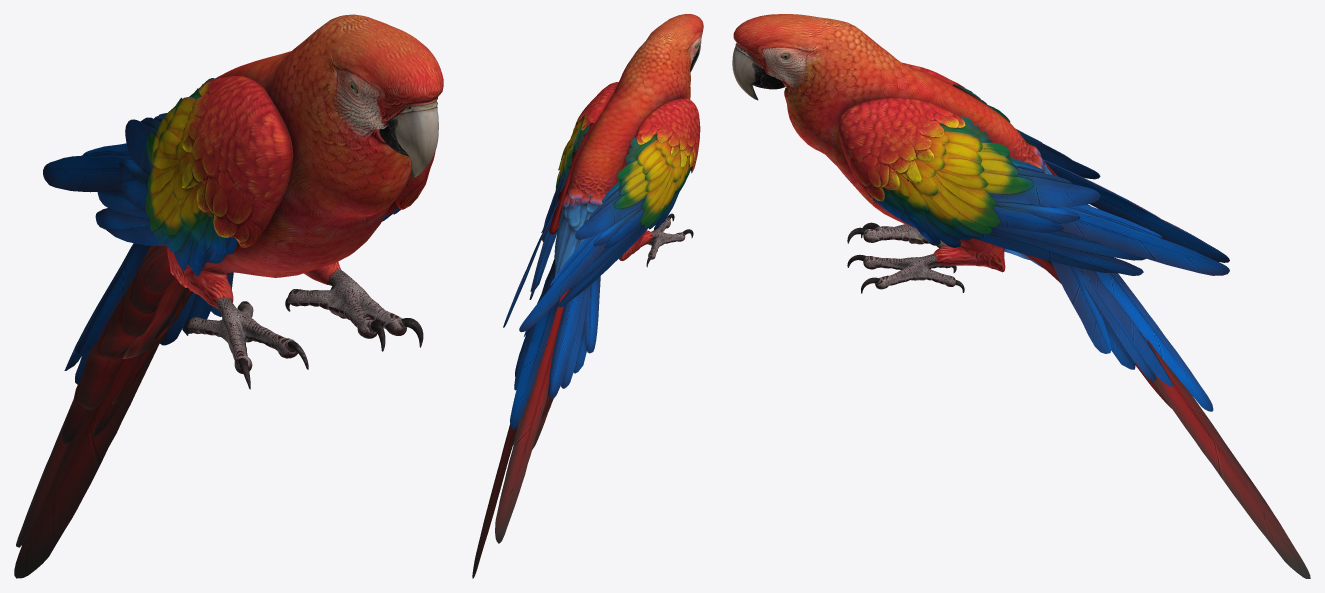
File: scarletmacaw.glb
3 views of the same model, side by side, from view 1: azimuth 30°, elevation 25°; view 2: azimuth 150°, elevation 25°; view 3: azimuth 270°, elevation 25° (orthographic). The views are drawn at different scales.
Visible parts, largest first — view 1: parrot.1_1; view 2: parrot.1_1; view 3: parrot.1_1.
Part boxes in pixels (x1=…): parrot.1_1: x1=14, y1=14, x2=443, y2=578; parrot.1_1: x1=472, y1=14, x2=703, y2=578; parrot.1_1: x1=732, y1=14, x2=1310, y2=578.
Bounding box in the file's own units: 0.0174 × 0.0623 × 0.0588.
1 material, 1 textured.
